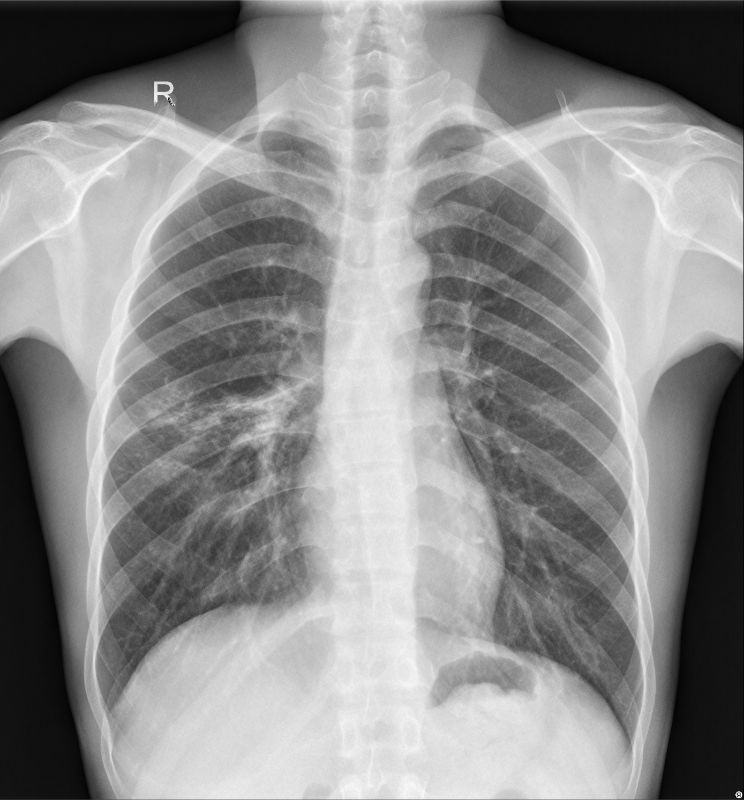Tuberculosis (TB): (137, 376, 229, 550)
